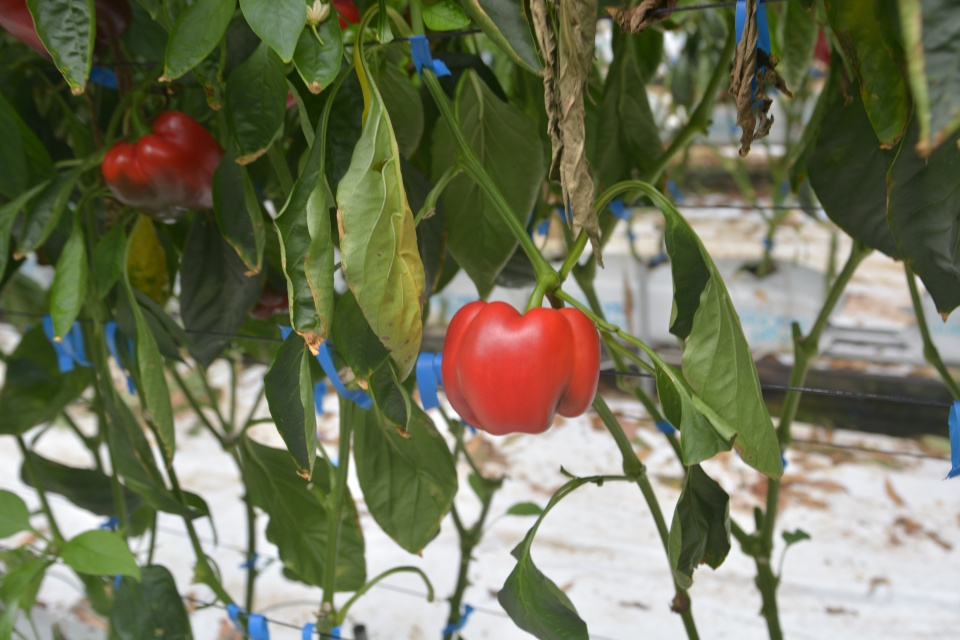flower: (299, 0, 332, 28)
fruit: (436, 292, 605, 437), (100, 108, 226, 212), (0, 0, 131, 61)
pedicle: (124, 123, 153, 140)
